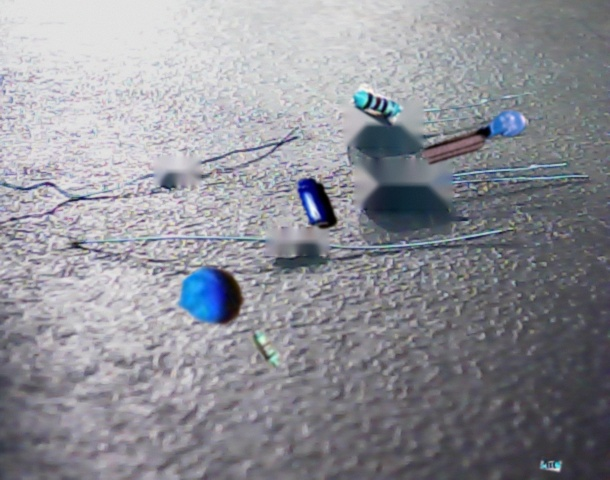capacitor: (422, 110, 526, 164), (177, 266, 244, 325), (297, 178, 338, 229)
resistor: (349, 82, 403, 129), (249, 329, 284, 370), (540, 458, 562, 472)
